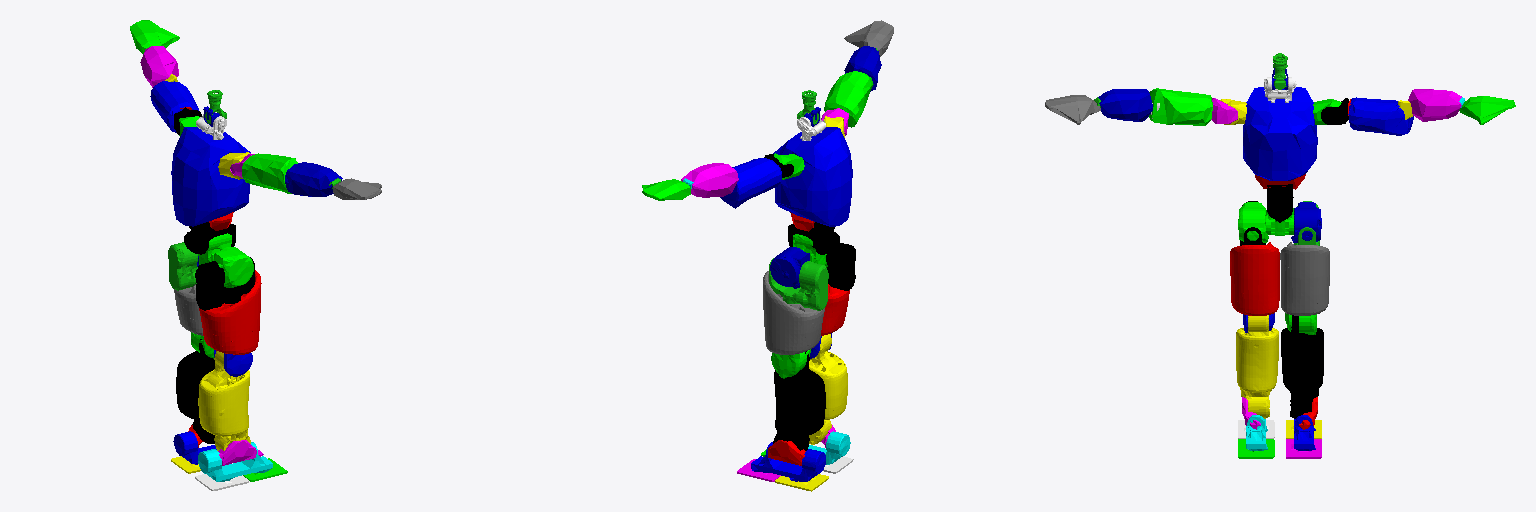
--- What the picture shows (computed from the rendered views, not written in the file) ---
The picture shows the robot from 3 angles, left to right: view 1: azimuth 30°, elevation 25°; view 2: azimuth 150°, elevation 25°; view 3: azimuth 270°, elevation 25°; orthographic projection.
Robot: iCub — 48 links, 47 joints (31 revolute, 1 continuous, 15 fixed); root link root_link; default pose: joints at zero except 2 at the middle of their limits (r_shoulder_roll = 1.5, l_shoulder_roll = 1.5).
Links seen in each view (by area): view 1: chest, r_lower_leg, r_hip_3, l_lower_leg, r_hip_2, r_upper_arm, r_forearm, r_ankle_2, l_upper_arm, l_hip_2, r_hip_1, l_forearm (+7 smaller); view 2: chest, l_lower_leg, l_hip_3, r_lower_leg, l_hip_2, l_upper_arm, r_upper_arm, l_forearm, l_ankle_2, r_hip_2, l_hip_1, r_hand (+7 smaller); view 3: chest, r_lower_leg, r_hip_3, l_hip_3, l_lower_leg, r_upper_arm, l_upper_arm, r_forearm, l_forearm, r_hand, l_hand, r_hip_1 (+4 smaller).
Link boxes in pixels (x1,y1,x2,y2): chest: [171, 127, 250, 226]; r_lower_leg: [198, 351, 250, 450]; r_hip_3: [199, 270, 261, 354]; l_lower_leg: [176, 339, 214, 443]; r_hip_2: [195, 257, 254, 310]; r_upper_arm: [242, 153, 297, 193]; r_forearm: [285, 162, 342, 196]; r_ankle_2: [198, 442, 272, 481]; l_upper_arm: [150, 81, 198, 132]; l_hip_2: [168, 242, 197, 290]; r_hip_1: [213, 247, 253, 287]; l_forearm: [140, 46, 178, 87]; chest: [773, 127, 852, 226]; l_lower_leg: [773, 351, 825, 450]; l_hip_3: [763, 271, 824, 354]; r_lower_leg: [809, 334, 847, 444]; l_hip_2: [769, 258, 828, 310]; l_upper_arm: [720, 158, 781, 208]; r_upper_arm: [824, 71, 873, 127]; l_forearm: [681, 163, 738, 197]; l_ankle_2: [751, 442, 825, 481]; r_hip_2: [826, 243, 855, 290]; l_hip_1: [770, 247, 809, 288]; r_hand: [844, 20, 893, 56]; chest: [1243, 87, 1317, 180]; r_lower_leg: [1236, 315, 1278, 418]; r_hip_3: [1230, 242, 1279, 315]; l_hip_3: [1280, 242, 1329, 315]; l_lower_leg: [1281, 315, 1323, 418]; r_upper_arm: [1149, 88, 1212, 125]; l_upper_arm: [1348, 97, 1413, 135]; r_forearm: [1098, 89, 1152, 121]; l_forearm: [1408, 89, 1461, 121]; r_hand: [1045, 95, 1100, 124]; l_hand: [1459, 96, 1515, 124]; r_hip_1: [1238, 202, 1268, 242].
Bounding box of the posed robot: 0.3212 × 1.28 × 1.13 m (x, y, z).
41 mesh visuals loaded from 42 distinct referenced files (19 binary STL, 22 ASCII STL); not drawn: 1 (reference not matched to a file when rendering).

The robot description file, URDF, robot "iCub":
<robot name="iCub">
  <link name="root_link">
    <inertial>
      <origin xyz="0.00317113 -0.00014949699999999998 0.025427000000000033" rpy="0 0 -1.5707963267948966"/>
      <mass value="2.67135"/>
      <inertia ixx="0.00428489" ixy="-2.2116e-06" ixz="-1.21946e-05" iyy="0.0045869" iyz="0.00016074" izz="0.00249045"/>
    </inertial>
    <visual>
      <origin xyz="0 0 0.313858" rpy="0 0 -1.5707963267948966"/>
      <geometry>
        <mesh filename="package://iCub/meshes/simmechanics/sim_icub3_root_link_prt.stl" scale="0.001 0.001 0.001"/>
      </geometry>
      <material name="green">
        <color rgba="0 1 0 1"/>
      </material>
    </visual>
    <collision>
      <origin xyz="0 0 0.313858" rpy="0 0 -1.5707963267948966"/>
      <geometry>
        <mesh filename="package://iCub/meshes/simmechanics/sim_icub3_root_link_prt.stl" scale="0.001 0.001 0.001"/>
      </geometry>
    </collision>
  </link>
  <link name="torso_1">
    <inertial>
      <origin xyz="-0.00752632 0.000684313 0.05308400000000002" rpy="0 0 -1.5707963267948966"/>
      <mass value="1.81255"/>
      <inertia ixx="0.00354354" ixy="5.48743e-06" ixz="8.16841e-06" iyy="0.00272482" iyz="-0.000326014" izz="0.00215923"/>
    </inertial>
    <visual>
      <origin xyz="0 0 0.25335800000000014" rpy="0 0 -1.5707963267948966"/>
      <geometry>
        <mesh filename="package://iCub/meshes/simmechanics/sim_icub3_torso_1_prt.stl" scale="0.001 0.001 0.001"/>
      </geometry>
      <material name="black">
        <color rgba="0 0 0 1"/>
      </material>
    </visual>
    <collision>
      <origin xyz="0 0 0.25335800000000014" rpy="0 0 -1.5707963267948966"/>
      <geometry>
        <mesh filename="package://iCub/meshes/simmechanics/sim_icub3_torso_1_prt.stl" scale="0.001 0.001 0.001"/>
      </geometry>
    </collision>
  </link>
  <joint name="torso_roll" type="revolute">
    <origin xyz="0 0 0.0605" rpy="0 0 0"/>
    <axis xyz="-1.0 0.0 0.0"/>
    <parent link="root_link"/>
    <child link="torso_1"/>
    <limit effort="50000" lower="-0.4014257279586958" upper="0.4014257279586958" velocity="120.0"/>
    <dynamics damping="2.0" friction="0.0"/>
  </joint>
  <link name="torso_2">
    <inertial>
      <origin xyz="0.0006802240000000001 0.0015534 0.05118500000000001" rpy="0 0 -1.5707963267948966"/>
      <mass value="1.45349"/>
      <inertia ixx="0.00226311" ixy="-1.7788e-06" ixz="-0.000118559" iyy="0.00286571" iyz="1.47721e-05" izz="0.00163638"/>
    </inertial>
    <visual>
      <origin xyz="0 0 0.18085800000000013" rpy="0 0 -1.5707963267948966"/>
      <geometry>
        <mesh filename="package://iCub/meshes/simmechanics/sim_icub3_torso_2_prt.stl" scale="0.001 0.001 0.001"/>
      </geometry>
      <material name="red">
        <color rgba="1 0 0 1"/>
      </material>
    </visual>
    <collision>
      <origin xyz="0 0 0.18085800000000013" rpy="0 0 -1.5707963267948966"/>
      <geometry>
        <mesh filename="package://iCub/meshes/simmechanics/sim_icub3_torso_2_prt.stl" scale="0.001 0.001 0.001"/>
      </geometry>
    </collision>
  </link>
  <joint name="torso_pitch" type="revolute">
    <origin xyz="0 0 0.07250000000000001" rpy="0 0 0"/>
    <axis xyz="0.0 1.0 0.0"/>
    <parent link="torso_1"/>
    <child link="torso_2"/>
    <limit effort="50000" lower="-0.3141592653589793" upper="0.7853981633974483" velocity="120.0"/>
    <dynamics damping="2.0" friction="0.0"/>
  </joint>
  <link name="chest">
    <inertial>
      <origin xyz="-0.0133964 -0.000262139 0.0551337" rpy="0 0 -1.5707963267948966"/>
      <mass value="5.75757"/>
      <inertia ixx="0.0255632" ixy="-5.31274e-05" ixz="9.38021e-05" iyy="0.0261369" iyz="-0.000610637" izz="0.0222276"/>
    </inertial>
    <visual>
      <origin xyz="0 0 0.11638800000000013" rpy="0 0 -1.5707963267948966"/>
      <geometry>
        <mesh filename="package://iCub/meshes/simmechanics/sim_icub3_chest_prt.stl" scale="0.001 0.001 0.001"/>
      </geometry>
      <material name="blue">
        <color rgba="0 0 1 1"/>
      </material>
    </visual>
    <collision>
      <origin xyz="0 0 0.11638800000000013" rpy="0 0 -1.5707963267948966"/>
      <geometry>
        <mesh filename="package://iCub/meshes/simmechanics/sim_icub3_chest_prt.stl" scale="0.001 0.001 0.001"/>
      </geometry>
    </collision>
  </link>
  <joint name="torso_yaw" type="revolute">
    <origin xyz="0 0 0.06447000000000001" rpy="0 0 0"/>
    <axis xyz="0.0 0.0 -1.0"/>
    <parent link="torso_2"/>
    <child link="chest"/>
    <limit effort="50000" lower="-0.7504915783575618" upper="0.7504915783575618" velocity="120.0"/>
    <dynamics damping="2.0" friction="0.0"/>
  </joint>
  <link name="chest_rgb_frame"/>
  <joint name="chest_rgb_frame_fixed_joint" type="fixed">
    <origin xyz="0.0894115 -0.0115 0.09929950000000001" rpy="-1.5707963267948968 0 -1.5707963267948968"/>
    <parent link="chest"/>
    <child link="chest_rgb_frame"/>
    <dynamics damping="0.1"/>
  </joint>
  <link name="chest_depth_frame"/>
  <joint name="chest_depth_frame_fixed_joint" type="fixed">
    <origin xyz="0.0894115 0.0175 0.09929950000000001" rpy="-1.5707963267948968 0 -1.5707963267948968"/>
    <parent link="chest"/>
    <child link="chest_depth_frame"/>
    <dynamics damping="0.1"/>
  </joint>
  <link name="r_shoulder_1">
    <inertial>
      <origin xyz="0.00026441971857374055 -0.05747129038042943 0.0004210903629773867" rpy="-0.06688725064450136 0.24445256247619251 -1.840815419889917"/>
      <mass value="1.45988"/>
      <inertia ixx="0.00109699" ixy="-0.000616726" ixz="-0.000574688" iyy="0.00309305" iyz="-0.000161381" izz="0.00309487"/>
    </inertial>
    <visual>
      <origin xyz="0.03041123335618441 0.029140462447480264 0.01909577433393811" rpy="-0.06688725064450136 0.24445256247619251 -1.840815419889917"/>
      <geometry>
        <mesh filename="package://iCub/meshes/simmechanics/sim_icub3_r_shoulder_1_prt.stl" scale="0.001 0.001 0.001"/>
      </geometry>
      <material name="yellow">
        <color rgba="1 1 0 1"/>
      </material>
    </visual>
    <collision>
      <origin xyz="0.03041123335618441 0.029140462447480264 0.01909577433393811" rpy="-0.06688725064450136 0.24445256247619251 -1.840815419889917"/>
      <geometry>
        <mesh filename="package://iCub/meshes/simmechanics/sim_icub3_r_shoulder_1_prt.stl" scale="0.001 0.001 0.001"/>
      </geometry>
    </collision>
  </link>
  <joint name="r_shoulder_pitch" type="revolute">
    <origin xyz="-0.020835100000000002 -0.0397423 0.1052029" rpy="-0.25326164431680925 2.3014774394592079e-07 0.26179970938509745"/>
    <axis xyz="1.499044390098182e-07 0.9999999783534812 -1.2401537036323317e-07"/>
    <parent link="chest"/>
    <child link="r_shoulder_1"/>
    <limit effort="50000" lower="-1.53588974175501" upper="0.22689280275926285" velocity="120.0"/>
    <dynamics damping="2.0" friction="0.0"/>
  </joint>
  <link name="r_shoulder_2">
    <inertial>
      <origin xyz="0.000711844151437005 -0.00028997131506725005 -0.027865575116629175" rpy="-0.07156446033079357 0.06196992338505823 -1.8462350402422587"/>
      <mass value="0.322126"/>
      <inertia ixx="0.000309774" ixy="3.44034e-05" ixz="2.39129e-05" iyy="0.00021568" iyz="-5.45925e-05" izz="0.000222102"/>
    </inertial>
    <visual>
      <origin xyz="0.02389326106684632 0.1415317167619924 -0.007252350207672714" rpy="-0.07156446033079357 0.06196992338505823 -1.8462350402422587"/>
      <geometry>
        <mesh filename="package://iCub/meshes/simmechanics/sim_icub3_r_shoulder_2_prt.stl" scale="0.001 0.001 0.001"/>
      </geometry>
      <material name="pink">
        <color rgba="1 0 1 1"/>
      </material>
    </visual>
    <collision>
      <origin xyz="0.02389326106684632 0.1415317167619924 -0.007252350207672714" rpy="-0.07156446033079357 0.06196992338505823 -1.8462350402422587"/>
      <geometry>
        <mesh filename="package://iCub/meshes/simmechanics/sim_icub3_r_shoulder_2_prt.stl" scale="0.001 0.001 0.001"/>
      </geometry>
    </collision>
  </link>
  <joint name="r_shoulder_roll" type="revolute">
    <origin xyz="0.007489008185044645 -0.11150041046657978 0.0004027858966975245" rpy="0.17453306234069352 -0.05374779257913059 -6.132332688804098e-07"/>
    <axis xyz="-0.9999998262417886 4.210501434612913e-08 2.4630481182686846e-08"/>
    <parent link="r_shoulder_1"/>
    <child link="r_shoulder_2"/>
    <limit effort="50000" lower="0.20943951023931956" upper="2.792526803190927" velocity="120.0"/>
    <dynamics damping="2.0" friction="0.0"/>
  </joint>
  <link name="r_shoulder_3">
    <inertial>
      <origin xyz="-8.928496484206933e-05 -3.376971940446949e-05 -0.007594500252887257" rpy="-0.07156446033079357 0.06196992338505823 -1.8462350402422587"/>
      <mass value="0.258699"/>
      <inertia ixx="7.20362e-05" ixy="5.87638e-07" ixz="-2.8754e-06" iyy="7.22746e-05" iyz="-3.42816e-06" izz="0.000119776"/>
    </inertial>
    <visual>
      <origin xyz="0.030743207452236198 0.1415314977120318 0.047047631370218286" rpy="-0.07156446033079357 0.06196992338505823 -1.8462350402422587"/>
      <geometry>
        <mesh filename="package://iCub/meshes/simmechanics/sim_icub3_r_shoulder_3_prt.stl" scale="0.001 0.001 0.001"/>
      </geometry>
      <material name="cyan">
        <color rgba="0 1 1 1"/>
      </material>
    </visual>
    <collision>
      <origin xyz="0.030743207452236198 0.1415314977120318 0.047047631370218286" rpy="-0.07156446033079357 0.06196992338505823 -1.8462350402422587"/>
      <geometry>
        <mesh filename="package://iCub/meshes/simmechanics/sim_icub3_r_shoulder_3_prt.stl" scale="0.001 0.001 0.001"/>
      </geometry>
    </collision>
  </link>
  <joint name="r_arm_ft_sensor" type="fixed">
    <origin xyz="-0.006849946385389872 2.1904996058697002e-07 -0.05429998157789099" rpy="0 0 0"/>
    <parent link="r_shoulder_2"/>
    <child link="r_shoulder_3"/>
    <dynamics damping="0.1"/>
  </joint>
  <link name="r_upper_arm">
    <inertial>
      <origin xyz="-4.827495476422694e-06 -0.001943485876269635 -0.04747357932833829" rpy="-0.07156446033079357 0.06196992338505823 -1.8462350402422587"/>
      <mass value="2.06334"/>
      <inertia ixx="0.00382639" ixy="-5.03894e-06" ixz="0.000205684" iyy="0.00368146" iyz="0.000261155" izz="0.00167002"/>
    </inertial>
    <visual>
      <origin xyz="0.03074312554381852 0.141531075879301 0.06954757274337188" rpy="-0.07156446033079357 0.06196992338505823 -1.8462350402422587"/>
      <geometry>
        <mesh filename="package://iCub/meshes/simmechanics/sim_icub3_r_upperarm_prt.stl" scale="0.001 0.001 0.001"/>
      </geometry>
      <material name="green">
        <color rgba="0 1 0 1"/>
      </material>
    </visual>
    <collision>
      <origin xyz="0.03074312554381852 0.141531075879301 0.06954757274337188" rpy="-0.07156446033079357 0.06196992338505823 -1.8462350402422587"/>
      <geometry>
        <mesh filename="package://iCub/meshes/simmechanics/sim_icub3_r_upperarm_prt.stl" scale="0.001 0.001 0.001"/>
      </geometry>
    </collision>
  </link>
  <joint name="r_shoulder_yaw" type="revolute">
    <origin xyz="0 4.2183273077367467e-07 -0.02249994137315358" rpy="0 0 0"/>
    <axis xyz="-3.787621790776764e-08 2.805197706023475e-08 1.0000002566182309"/>
    <parent link="r_shoulder_3"/>
    <child link="r_upper_arm"/>
    <limit effort="50000" lower="-0.8726646259971648" upper="1.3962634015954636" velocity="120.0"/>
    <dynamics damping="2.0" friction="0.0"/>
  </joint>
  <link name="r_elbow_1">
    <inertial>
      <origin xyz="-0.011624818009452066 -0.0018028159470199479 0.022300137248866647" rpy="-0.07156446033079357 0.06196992338505823 -1.8462350402422587"/>
      <mass value="0.397478"/>
      <inertia ixx="0.00139406" ixy="5.80993e-06" ixz="5.27143e-05" iyy="0.00139077" iyz="6.49755e-05" izz="0.000397127"/>
    </inertial>
    <visual>
      <origin xyz="0.020743193621214673 0.14003143574727356 0.19324791023291824" rpy="-0.07156446033079357 0.06196992338505823 -1.8462350402422587"/>
      <geometry>
        <mesh filename="package://iCub/meshes/simmechanics/sim_icub3_r_elbow_1_prt.stl" scale="0.001 0.001 0.001"/>
      </geometry>
      <material name="white">
        <color rgba="1 1 1 1"/>
      </material>
    </visual>
    <collision>
      <origin xyz="0.020743193621214673 0.14003143574727356 0.19324791023291824" rpy="-0.07156446033079357 0.06196992338505823 -1.8462350402422587"/>
      <geometry>
        <mesh filename="package://iCub/meshes/simmechanics/sim_icub3_r_elbow_1_prt.stl" scale="0.001 0.001 0.001"/>
      </geometry>
    </collision>
  </link>
  <joint name="r_elbow" type="revolute">
    <origin xyz="0.00999993192260382 0.0014996401320274133 -0.1237003374895465" rpy="0 0 0"/>
    <axis xyz="2.4949582807394525e-07 -1.0000002733514362 2.7942487010105877e-08"/>
    <parent link="r_upper_arm"/>
    <child link="r_elbow_1"/>
    <limit effort="50000" lower="-0.05235987755982989" upper="1.3089969389957472" velocity="120.0"/>
    <dynamics damping="2.0" friction="0.0"/>
  </joint>
  <link name="r_forearm">
    <inertial>
      <origin xyz="-0.005853260593877814 -3.2973527508139977e-06 -0.03040488207175987" rpy="-0.07156446033079357 0.06196992338505823 -1.8462350402422587"/>
      <mass value="0.903262"/>
      <inertia ixx="0.00130068" ixy="1.19026e-06" ixz="2.01573e-05" iyy="0.00125879" iyz="0.000118676" izz="0.000642975"/>
    </inertial>
    <visual>
      <origin xyz="0.03574306309002756 0.14203108565259243 0.2485479739054379" rpy="-0.07156446033079357 0.06196992338505823 -1.8462350402422587"/>
      <geometry>
        <mesh filename="package://iCub/meshes/simmechanics/sim_icub3_r_forearm_prt.stl" scale="0.001 0.001 0.001"/>
      </geometry>
      <material name="dblue">
        <color rgba="0 0 0.8 1"/>
      </material>
    </visual>
    <collision>
      <origin xyz="0.03574306309002756 0.14203108565259243 0.2485479739054379" rpy="-0.07156446033079357 0.06196992338505823 -1.8462350402422587"/>
      <geometry>
        <mesh filename="package://iCub/meshes/simmechanics/sim_icub3_r_forearm_prt.stl" scale="0.001 0.001 0.001"/>
      </geometry>
    </collision>
  </link>
  <joint name="r_wrist_prosup" type="revolute">
    <origin xyz="-0.014999869468812953 -0.0019996499053189787 -0.05530006367251966" rpy="0 0 0"/>
    <axis xyz="-3.787621790776764e-08 2.805197706023475e-08 1.0000002566182309"/>
    <parent link="r_elbow_1"/>
    <child link="r_forearm"/>
    <limit effort="50000" lower="-1.53588974175501" upper="1.53588974175501" velocity="120.0"/>
    <dynamics damping="2.0" friction="0.0"/>
  </joint>
  <link name="r_wrist_1">
    <inertial>
      <origin xyz="-0.014389827079018234 0.0005092753390521787 -9.78731576423697e-05" rpy="-0.07156446033079357 0.06196992338505823 -1.8462350402422587"/>
      <mass value="0.0344005"/>
      <inertia ixx="5.11755e-06" ixy="9.19776e-07" ixz="1.47559e-08" iyy="1.60849e-06" iyz="-1.11493e-07" izz="5.58546e-06"/>
    </inertial>
    <visual>
      <origin xyz="0.019443109736078983 0.14403852854340418 0.3560480536175445" rpy="-0.07156446033079357 0.06196992338505823 -1.8462350402422587"/>
      <geometry>
        <mesh filename="package://iCub/meshes/simmechanics/sim_icub3_r_wrist_1_prt.stl" scale="0.001 0.001 0.001"/>
      </geometry>
      <material name="dgreen">
        <color rgba="0.1 0.8 0.1 1"/>
      </material>
    </visual>
    <collision>
      <origin xyz="0.019443109736078983 0.14403852854340418 0.3560480536175445" rpy="-0.07156446033079357 0.06196992338505823 -1.8462350402422587"/>
      <geometry>
        <mesh filename="package://iCub/meshes/simmechanics/sim_icub3_r_wrist_1_prt.stl" scale="0.001 0.001 0.001"/>
      </geometry>
    </collision>
  </link>
  <joint name="r_wrist_pitch" type="revolute">
    <origin xyz="0.016299953353948633 -0.002007442890811839 -0.10750007971210637" rpy="0 0 0"/>
    <axis xyz="0.9999998262417886 -4.210501434612913e-08 -2.4630481182686846e-08"/>
    <parent link="r_forearm"/>
    <child link="r_wrist_1"/>
    <limit effort="50000" lower="-1.2217304763960306" upper="0.4363323129985824" velocity="120.0"/>
    <dynamics damping="2.0" friction="0.0"/>
  </joint>
  <link name="r_hand">
    <inertial>
      <origin xyz="0.004828314385249669 0.00615667237451184 -0.0671378028889843" rpy="-0.07156446033079357 0.06196992338505823 -1.8462350402422587"/>
      <mass value="0.264229"/>
      <inertia ixx="0.000428764" ixy="4.7873e-05" ixz="1.1114e-05" iyy="0.000348073" iyz="1.14469e-05" izz="0.00016164"/>
    </inertial>
    <visual>
      <origin xyz="0.03574323261035172 0.1370391384923124 0.35604813291443793" rpy="-0.07156446033079357 0.06196992338505823 -1.8462350402422587"/>
      <geometry>
        <mesh filename="package://iCub/meshes/simmechanics/sim_icub3_r_hand_prt.stl" scale="0.001 0.001 0.001"/>
      </geometry>
      <material name="gray">
        <color rgba="0.5 0.5 0.5 1"/>
      </material>
    </visual>
    <collision>
      <origin xyz="0.03574323261035172 0.1370391384923124 0.35604813291443793" rpy="-0.07156446033079357 0.06196992338505823 -1.8462350402422587"/>
      <geometry>
        <mesh filename="package://iCub/meshes/simmechanics/sim_icub3_r_hand_prt.stl" scale="0.001 0.001 0.001"/>
      </geometry>
    </collision>
  </link>
  <joint name="r_wrist_yaw" type="continuous">
    <origin xyz="-0.016300122874272734 0.006999390051091792 0" rpy="0 0 0"/>
    <axis xyz="-2.4949582807394525e-07 1.0000002733514362 -2.7942487010105877e-08"/>
    <parent link="r_wrist_1"/>
    <child link="r_hand"/>
    <dynamics damping="0.1"/>
  </joint>
  <link name="l_shoulder_1">
    <inertial>
      <origin xyz="0.0002918276617865645 0.05723090680782866 0.0005026028232598678" rpy="-0.0668874800658252 -0.24445247958725436 -1.300777660386542"/>
      <mass value="1.45562"/>
      <inertia ixx="0.00109517" ixy="0.000611891" ixz="0.000565594" iyy="0.00306956" iyz="-0.000159546" izz="0.00307951"/>
    </inertial>
    <visual>
      <origin xyz="0.030411223823216205 -0.02914047750374663 0.019095766539677893" rpy="-0.0668874800658252 -0.24445247958725436 -1.300777660386542"/>
      <geometry>
        <mesh filename="package://iCub/meshes/simmechanics/sim_icub3_l_shoulder_1_prt.stl" scale="0.001 0.001 0.001"/>
      </geometry>
      <material name="green">
        <color rgba="0 1 0 1"/>
      </material>
    </visual>
    <collision>
      <origin xyz="0.030411223823216205 -0.02914047750374663 0.019095766539677893" rpy="-0.0668874800658252 -0.24445247958725436 -1.300777660386542"/>
      <geometry>
        <mesh filename="package://iCub/meshes/simmechanics/sim_icub3_l_shoulder_1_prt.stl" scale="0.001 0.001 0.001"/>
      </geometry>
    </collision>
  </link>
  <joint name="l_shoulder_pitch" type="revolute">
    <origin xyz="-0.020835100000000002 0.0397423 0.1052029" rpy="0.25326162380993705 -1.1977334179319483e-07 -0.26179930184968747"/>
    <axis xyz="3.323079797554136e-07 0.9999999783534342 1.4452224303420037e-07"/>
    <parent link="chest"/>
    <child link="l_shoulder_1"/>
    <limit effort="50000" lower="-1.53588974175501" upper="0.22689280275926285" velocity="120.0"/>
    <dynamics damping="2.0" friction="0.0"/>
  </joint>
  <link name="l_shoulder_2">
    <inertial>
      <origin xyz="0.003293362025486902 0.0002563804707528261 -0.027865685757097337" rpy="-0.0715644949880594 -0.06196998841864678 -1.295357449823658"/>
      <mass value="0.322126"/>
      <inertia ixx="0.000311039" ixy="-3.5032e-05" ixz="-2.4436e-05" iyy="0.000216027" iyz="-5.52877e-05" izz="0.00022365"/>
    </inertial>
    <visual>
      <origin xyz="0.02639309786919337 -0.14153112610649202 -0.0072523976446019255" rpy="-0.0715644949880594 -0.06196998841864678 -1.295357449823658"/>
      <geometry>
        <mesh filename="package://iCub/meshes/simmechanics/sim_icub3_l_shoulder_2_prt.stl" scale="0.001 0.001 0.001"/>
      </geometry>
      <material name="black">
        <color rgba="0 0 0 1"/>
      </material>
    </visual>
    <collision>
      <origin xyz="0.02639309786919337 -0.14153112610649202 -0.0072523976446019255" rpy="-0.0715644949880594 -0.06196998841864678 -1.295357449823658"/>
      <geometry>
        <mesh filename="package://iCub/meshes/simmechanics/sim_icub3_l_shoulder_2_prt.stl" scale="0.001 0.001 0.001"/>
      </geometry>
    </collision>
  </link>
  <joint name="l_shoulder_roll" type="revolute">
    <origin xyz="0.004992849331690818 0.111499838456099 0.00026865022773668243" rpy="-0.17453296140985003 -0.05374759931933849 0"/>
    <axis xyz="0.9999998262417685 2.0348252625938444e-07 -4.023022846062156e-08"/>
    <parent link="l_shoulder_1"/>
    <child link="l_shoulder_2"/>
    <limit effort="50000" lower="0.20943951023931956" upper="2.792526803190927" velocity="120.0"/>
    <dynamics damping="2.0" friction="0.0"/>
  </joint>
  <link name="l_shoulder_3">
    <inertial>
      <origin xyz="-4.416264022005789e-06 9.587749727052453e-05 -0.007326213473011087" rpy="-0.0715644949880594 -0.06196998841864678 -1.295357449823658"/>
      <mass value="0.256128"/>
      <inertia ixx="7.10321e-05" ixy="-3.76336e-07" ixz="2.93189e-06" iyy="7.06105e-05" iyz="-3.52325e-06" izz="0.000119948"/>
    </inertial>
    <visual>
      <origin xyz="0.030743231026171703 -0.14153148936381538 0.047047641079459794" rpy="-0.0715644949880594 -0.06196998841864678 -1.295357449823658"/>
      <geometry>
        <mesh filename="package://iCub/meshes/simmechanics/sim_icub3_l_shoulder_3_prt.stl" scale="0.001 0.001 0.001"/>
      </geometry>
      <material name="red">
        <color rgba="1 0 0 1"/>
      </material>
    </visual>
    <collision>
      <origin xyz="0.030743231026171703 -0.14153148936381538 0.047047641079459794" rpy="-0.0715644949880594 -0.06196998841864678 -1.295357449823658"/>
      <geometry>
        <mesh filename="package://iCub/meshes/simmechanics/sim_icub3_l_shoulder_3_prt.stl" scale="0.001 0.001 0.001"/>
      </geometry>
    </collision>
  </link>
  <joint name="l_arm_ft_sensor" type="fixed">
    <origin xyz="-0.004350133156978318 3.632573233602887e-07 -0.05430003872406172" rpy="0 0 0"/>
    <parent link="l_shoulder_2"/>
    <child link="l_shoulder_3"/>
    <dynamics damping="0.1"/>
  </joint>
  <link name="l_upper_arm">
    <inertial>
      <origin xyz="0.008436901028384347 -0.02825065136033926 -0.04871214093553894" rpy="-0.0715644949880594 -0.06196998841864678 -1.295357449823658"/>
      <mass value="1.9475"/>
      <inertia ixx="0.00402757" ixy="0.000270166" ixz="-0.000286443" iyy="0.0208452" iyz="0.000223927" izz="0.0187793"/>
    </inertial>
    <visual>
      <origin xyz="0.030743149468679162 -0.14153106591133113 0.06954758245258448" rpy="-0.0715644949880594 -0.06196998841864678 -1.295357449823658"/>
      <geometry>
        <mesh filename="package://iCub/meshes/simmechanics/sim_icub3_l_upperarm_prt.stl" scale="0.001 0.001 0.001"/>
      </geometry>
      <material name="blue">
        <color rgba="0 0 1 1"/>
      </material>
    </visual>
    <collision>
      <origin xyz="0.030743149468679162 -0.14153106591133113 0.06954758245258448" rpy="-0.0715644949880594 -0.06196998841864678 -1.295357449823658"/>
      <geometry>
        <mesh filename="package://iCub/meshes/simmechanics/sim_icub3_l_upperarm_prt.stl" scale="0.001 0.001 0.001"/>
      </geometry>
    </collision>
  </link>
  <joint name="l_shoulder_yaw" type="revolute">
    <origin xyz="0 -4.2345248449371375e-07 -0.022499941373124423" rpy="0 0 0"/>
    <axis xyz="2.2276474049102235e-08 -4.393786247302041e-08 -1.0000002566182309"/>
    <parent link="l_shoulder_3"/>
    <child link="l_upper_arm"/>
    <limit effort="50000" lower="-0.8726646259971648" upper="1.3962634015954636" velocity="120.0"/>
    <dynamics damping="2.0" friction="0.0"/>
  </joint>
  <link name="l_elbow_1">
    <inertial>
      <origin xyz="-0.010241946078109288 0.0018224069895867168 -0.015089620258555453" rpy="-0.0715644949880594 -0.06196998841864678 -1.295357449823658"/>
      <mass value="0.230254"/>
      <inertia ixx="0.0001165" ixy="7.51175e-07" ixz="-9.8725e-06" iyy="0.00012549" iyz="-1.03338e-05" izz="4.38981e-05"/>
    </inertial>
    <visual>
      <origin xyz="0.020743219233759835 -0.14003141848790232 0.19324791999016797" rpy="-0.0715644949880594 -0.06196998841864678 -1.295357449823658"/>
      <geometry>
        <mesh filename="package://iCub/meshes/simmechanics/sim_icub3_l_elbow_1_prt.stl" scale="0.001 0.001 0.001"/>
      </geometry>
      <material name="yellow">
        <color rgba="1 1 0 1"/>
      </material>
    </visual>
    <collision>
      <origin xyz="0.020743219233759835 -0.14003141848790232 0.19324791999016797" rpy="-0.0715644949880594 -0.06196998841864678 -1.295357449823658"/>
      <geometry>
        <mesh filename="package://iCub/meshes/simmechanics/sim_icub3_l_elbow_1_prt.stl" scale="0.001 0.001 0.001"/>
      </geometry>
    </collision>
  </link>
  <joint name="l_elbow" type="revolute">
    <origin xyz="0.009999930234919404 -0.001499647423428896 -0.12370033753758375" rpy="0 0 0"/>
    <axis xyz="-8.811824174789715e-08 -1.0000002733514628 4.404736120498342e-08"/>
    <parent link="l_upper_arm"/>
    <child link="l_elbow_1"/>
    <limit effort="50000" lower="-0.05235987755982989" upper="1.3089969389957472" velocity="120.0"/>
    <dynamics damping="2.0" friction="0.0"/>
  </joint>
  <link name="l_forearm">
    <inertial>
      <origin xyz="-0.0062698741022980675 -4.68551245806359e-05 -0.030648347755607208" rpy="-0.0715644949880594 -0.06196998841864678 -1.295357449823658"/>
      <mass value="0.90793"/>
      <inertia ixx="0.00131822" ixy="-7.39737e-07" ixz="-2.69292e-05" iyy="0.00128448" iyz="0.000108551" izz="0.000646975"/>
    </inertial>
    <visual>
      <origin xyz="0.035743089887937486 -0.14203106199153712 0.24854798357264754" rpy="-0.0715644949880594 -0.06196998841864678 -1.295357449823658"/>
      <geometry>
        <mesh filename="package://iCub/meshes/simmechanics/sim_icub3_l_forearm_prt.stl" scale="0.001 0.001 0.001"/>
      </geometry>
      <material name="pink">
        <color rgba="1 0 1 1"/>
      </material>
    </visual>
    <collision>
      <origin xyz="0.035743089887937486 -0.14203106199153712 0.24854798357264754" rpy="-0.0715644949880594 -0.06196998841864678 -1.295357449823658"/>
      <geometry>
        <mesh filename="package://iCub/meshes/simmechanics/sim_icub3_l_forearm_prt.stl" scale="0.001 0.001 0.001"/>
      </geometry>
    </collision>
  </link>
  <joint name="l_wrist_prosup" type="revolute">
    <origin xyz="-0.0149998706541777 0.0019996435036348514 -0.0553000635824798" rpy="0 0 0"/>
    <axis xyz="2.2276474049102235e-08 -4.393786247302041e-08 -1.0000002566182309"/>
    <parent link="l_elbow_1"/>
    <child link="l_forearm"/>
    <limit effort="50000" lower="-1.53588974175501" upper="1.53588974175501" velocity="120.0"/>
    <dynamics damping="2.0" friction="0.0"/>
  </joint>
  <link name="l_wrist_1">
    <inertial>
      <origin xyz="-0.014390150453737368 -0.0005083960996520864 -9.893035257668714e-05" rpy="-0.0715644949880594 -0.06196998841864678 -1.295357449823658"/>
      <mass value="0.0344005"/>
      <inertia ixx="5.11755e-06" ixy="-9.19776e-07" ixz="-1.4756e-08" iyy="1.60849e-06" iyz="-1.11493e-07" izz="5.58546e-06"/>
    </inertial>
    <visual>
      <origin xyz="0.019143073953651328 -0.1440379572096098 0.3560476247151885" rpy="-0.0715644949880594 -0.06196998841864678 -1.295357449823658"/>
      <geometry>
        <mesh filename="package://iCub/meshes/simmechanics/sim_icub3_l_wrist_1_prt.stl" scale="0.001 0.001 0.001"/>
      </geometry>
      <material name="cyan">
        <color rgba="0 1 1 1"/>
      </material>
    </visual>
    <collision>
      <origin xyz="0.019143073953651328 -0.1440379572096098 0.3560476247151885" rpy="-0.0715644949880594 -0.06196998841864678 -1.295357449823658"/>
      <geometry>
        <mesh filename="package://iCub/meshes/simmechanics/sim_icub3_l_wrist_1_prt.stl" scale="0.001 0.001 0.001"/>
      </geometry>
    </collision>
  </link>
  <joint name="l_wrist_pitch" type="revolute">
    <origin xyz="0.016600015934286182 0.0020068952180725685 -0.10749964114254112" rpy="0 0 0"/>
    <axis xyz="-0.9999998262417685 -2.0348252625938444e-07 4.023022846062156e-08"/>
    <parent link="l_forearm"/>
    <child link="l_wrist_1"/>
    <limit effort="50000" lower="-1.2217304763960306" upper="0.4363323129985824" velocity="120.0"/>
    <dynamics damping="2.0" friction="0.0"/>
  </joint>
  <link name="l_hand">
    <inertial>
      <origin xyz="0.004786523181334726 -0.0061337378723908265 -0.0672770617484692" rpy="-0.0715644949880594 -0.06196998841864678 -1.295357449823658"/>
      <mass value="0.263541"/>
      <inertia ixx="0.000427427" ixy="-4.77094e-05" ixz="-1.03141e-05" iyy="0.000346557" iyz="1.19895e-05" izz="0.000161212"/>
    </inertial>
    <visual>
      <origin xyz="0.035443195698380774 -0.13703856452803848 0.35604770325391955" rpy="-0.0715644949880594 -0.06196998841864678 -1.295357449823658"/>
      <geometry>
        <mesh filename="package://iCub/meshes/simmechanics/sim_icub3_l_hand_prt.stl" scale="0.001 0.001 0.001"/>
      </geometry>
      <material name="green">
        <color rgba="0 1 0 1"/>
      </material>
    </visual>
    <collision>
      <origin xyz="0.035443195698380774 -0.13703856452803848 0.35604770325391955" rpy="-0.0715644949880594 -0.06196998841864678 -1.295357449823658"/>
      <geometry>
        <mesh filename="package://iCub/meshes/simmechanics/sim_icub3_l_hand_prt.stl" scale="0.001 0.001 0.001"/>
      </geometry>
    </collision>
  </link>
  <joint name="l_wrist_yaw" type="revolute">
    <origin xyz="-0.016300121744729387 -0.006999392681571209 0" rpy="0 0 0"/>
    <axis xyz="8.811824174789715e-08 1.0000002733514628 -4.404736120498342e-08"/>
    <parent link="l_wrist_1"/>
    <child link="l_hand"/>
    <limit effort="50000" lower="-0.2617993877991494" upper="0.6108652381980153" velocity="120.0"/>
    <dynamics damping="2.0" friction="0.0"/>
  </joint>
  <link name="neck_1">
    <inertial>
      <origin xyz="-0.0021259300000000003 0.00033753499999999997 0.031454700000000016" rpy="-1.5707963267948968 0 -1.5707963267948968"/>
      <mass value="0.380603"/>
      <inertia ixx="0.000185836" ixy="-9.13542e-06" ixz="-1.53863e-05" iyy="0.000276646" iyz="5.76662e-06" izz="0.000293437"/>
    </inertial>
    <visual>
      <origin xyz="0.00865 0 0.049000000000000016" rpy="-1.5707963267948968 0 -1.5707963267948968"/>
      <geometry>
        <mesh filename="package://iCub/meshes/simmechanics/sim_head_neck_1_prt.stl" scale="0.001 0.001 0.001"/>
      </geometry>
      <material name="white">
        <color rgba="1 1 1 1"/>
      </material>
    </visual>
    <collision>
      <origin xyz="0.00865 0 0.049000000000000016" rpy="-1.5707963267948968 0 -1.5707963267948968"/>
      <geometry>
        <mesh filename="package://iCub/meshes/simmechanics/sim_head_neck_1_prt.stl" scale="0.001 0.001 0.001"/>
      </geometry>
    </collision>
  </link>
  <joint name="neck_fixed_joint" type="fixed">
    <origin xyz="-0.00378849 0 0.1652995" rpy="0 0 0"/>
    <parent link="chest"/>
    <child link="neck_1"/>
    <dynamics damping="0.1"/>
  </joint>
  <link name="neck_2">
    <inertial>
      <origin xyz="-0.0063756 3.63093e-05 0.006597499999999992" rpy="-1.5707963267948968 0 -1.5707963267948968"/>
      <mass value="0.125549"/>
      <inertia ixx="4.05687e-05" ixy="5.89601e-08" ixz="9.99576e-08" iyy="3.86628e-05" iyz="-9.39299e-06" izz="4.74184e-05"/>
    </inertial>
    <visual>
      <origin xyz="0 0 0" rpy="-1.5707963267948968 0 -1.5707963267948968"/>
      <geometry>
        <mesh filename="package://iCub/meshes/simmechanics/sim_head_neck_2_prt.stl" scale="0.001 0.001 0.001"/>
      </geometry>
      <material name="dblue">
        <color rgba="0 0 0.8 1"/>
      </material>
    </visual>
    <collision>
      <origin xyz="0 0 0" rpy="-1.5707963267948968 0 -1.5707963267948968"/>
      <geometry>
        <mesh filename="package://iCub/meshes/simmechanics/sim_head_neck_2_prt.stl" scale="0.001 0.001 0.001"/>
      </geometry>
    </collision>
  </link>
  <joint name="neck_pitch" type="revolute">
    <origin xyz="0.00865 0 0.049000000000000016" rpy="0 0 0"/>
    <axis xyz="0.0 -1.0 0.0"/>
    <parent link="neck_1"/>
    <child link="neck_2"/>
    <limit effort="50000" lower="-0.5235987755982988" upper="0.3839724354387525" velocity="120.0"/>
    <dynamics damping="2.0" friction="0.0"/>
  </joint>
  <link name="neck_3">
    <inertial>
      <origin xyz="0.0012653999999999999 -8.218820291562122e-05 0.03610899999999334" rpy="-1.5707963267948968 0 -1.5707963267948968"/>
      <mass value="0.190133"/>
      <inertia ixx="0.000123771" ixy="-5.41886e-07" ixz="-3.72305e-07" iyy="4.12807e-05" iyz="-1.03162e-05" izz="0.000110703"/>
    </inertial>
    <visual>
      <origin xyz="0 0 -0.009500499999999995" rpy="-1.5707963267948968 0 -1.5707963267948968"/>
      <geometry>
        <mesh filename="package://iCub/meshes/simmechanics/sim_head_neck_3_prt.stl" scale="0.001 0.001 0.001"/>
      </geometry>
      <material name="dgreen">
        <color rgba="0.1 0.8 0.1 1"/>
      </material>
    </visual>
    <collision>
      <origin xyz="0 0 -0.009500499999999995" rpy="-1.5707963267948968 0 -1.5707963267948968"/>
      <geometry>
        <mesh filename="package://iCub/meshes/simmechanics/sim_head_neck_3_prt.stl" scale="0.001 0.001 0.001"/>
      </geometry>
    </collision>
  </link>
  <joint name="neck_roll" type="revolute">
    <origin xyz="0 0 0.009500499999999995" rpy="0 0 0"/>
    <axis xyz="1.0 0.0 0.0"/>
    <parent link="neck_2"/>
    <child link="neck_3"/>
    <limit effort="50000" lower="-0.3490658503988659" upper="0.3490658503988659" velocity="120.0"/>
    <dynamics damping="2.0" friction="0.0"/>
  </joint>
  <link name="head">
    <inertial>
      <origin xyz="-0.02065171000002118 0.0005260309913323862 0.027897000000042443" rpy="-1.5707963267948966 0 -1.5707963267948966"/>
      <mass value="1.93676"/>
      <inertia ixx="0.00790366" ixy="5.06719e-05" ixz="5.09464e-05" iyy="0.00765752" iyz="-0.000199888" izz="0.0057852"/>
    </inertial>
    <visual>
      <origin xyz="0 0 -0.07865050000000001" rpy="-1.5707963267948966 0 -1.5707963267948966"/>
      <geometry>
        <mesh filename="package://iCub/meshes/simmechanics/sim_head_head_prt.stl" scale="0.001 0.001 0.001"/>
      </geometry>
      <material name="gray">
        <color rgba="0.5 0.5 0.5 1"/>
      </material>
    </visual>
    <collision>
      <origin xyz="0 0 -0.07865050000000001" rpy="-1.5707963267948966 0 -1.5707963267948966"/>
      <geometry>
        <mesh filename="package://iCub/meshes/simmechanics/sim_head_head_prt.stl" scale="0.001 0.001 0.001"/>
      </geometry>
    </collision>
  </link>
  <joint name="neck_yaw" type="revolute">
    <origin xyz="0 0 0.06915000000000002" rpy="0 0 0"/>
    <axis xyz="-1.6255499221370677e-21 -1.0999983743979075e-15 1.0"/>
    <parent link="neck_3"/>
    <child link="head"/>
    <limit effort="50000" lower="-0.7853981633974483" upper="0.7853981633974483" velocity="120.0"/>
    <dynamics damping="2.0" friction="0.0"/>
  </joint>
  <link name="imu_frame"/>
  <joint name="imu_frame_fixed_joint" type="fixed">
    <origin xyz="0.0034999999997785457 0.0054999999863750895 0.1013340000004441" rpy="-3.141592653589793 0 -1.570796326794897"/>
    <parent link="head"/>
    <child link="imu_frame"/>
    <dynamics damping="0.1"/>
  </joint>
  <link name="r_hip_1">
    <inertial>
      <origin xyz="-0.0022844000000000024 -0.0311272 -0.0005319999999999769" rpy="0 0 -1.5707963267948966"/>
      <mass value="2.50002"/>
      <inertia ixx="0.00297897" ixy="2.5017e-05" ixz="-6.41747e-06" iyy="0.00239087" iyz="1.70293e-05" izz="0.00250378"/>
    </inertial>
    <visual>
      <origin xyz="-0.0216 0.04054999999999986 0.313858" rpy="0 0 -1.5707963267948966"/>
      <geometry>
        <mesh filename="package://iCub/meshes/simmechanics/sim_icub3_r_hip_1_prt.stl" scale="0.001 0.001 0.001"/>
      </geometry>
      <material name="green">
        <color rgba="0 1 0 1"/>
      </material>
    </visual>
    <collision>
      <origin xyz="-0.0216 0.04054999999999986 0.313858" rpy="0 0 -1.5707963267948966"/>
      <geometry>
        <mesh filename="package://iCub/meshes/simmechanics/sim_icub3_r_hip_1_prt.stl" scale="0.001 0.001 0.001"/>
      </geometry>
    </collision>
  </link>
  <joint name="r_hip_pitch" type="revolute">
    <origin xyz="0.0216 -0.040549999999999996 0" rpy="0 0 0"/>
    <axis xyz="0.0 -1.0 0.0"/>
    <parent link="root_link"/>
    <child link="r_hip_1"/>
    <limit effort="50000" lower="-0.7853981633974483" upper="2.007128639793479" velocity="120.0"/>
    <dynamics damping="2.0" friction="0.0"/>
  </joint>
  <link name="r_hip_2">
    <inertial>
      <origin xyz="-0.005953899999999998 -6.729999999999237e-05 -0.03664600000000001" rpy="0 0 -1.5707963267948966"/>
      <mass value="1.881"/>
      <inertia ixx="0.00530499" ixy="4.52129e-06" ixz="-3.21581e-06" iyy="0.00316405" iyz="0.00111279" izz="0.00322352"/>
    </inertial>
    <visual>
      <origin xyz="0.025699999999999973 0.07364999999999984 0.3228580000000001" rpy="0 0 -1.5707963267948966"/>
      <geometry>
        <mesh filename="package://iCub/meshes/simmechanics/sim_icub3_r_hip_2_prt.stl" scale="0.001 0.001 0.001"/>
      </geometry>
      <material name="black">
        <color rgba="0 0 0 1"/>
      </material>
    </visual>
    <collision>
      <origin xyz="0.025699999999999973 0.07364999999999984 0.3228580000000001" rpy="0 0 -1.5707963267948966"/>
      <geometry>
        <mesh filename="package://iCub/meshes/simmechanics/sim_icub3_r_hip_2_prt.stl" scale="0.001 0.001 0.001"/>
      </geometry>
    </collision>
  </link>
  <joint name="r_hip_roll" type="revolute">
    <origin xyz="-0.0473 -0.03310000000000001 -0.009000000000000008" rpy="0 0 0"/>
    <axis xyz="-1.0 0.0 0.0"/>
    <parent link="r_hip_1"/>
    <child link="r_hip_2"/>
    <limit effort="50000" lower="-0.17453292519943295" upper="2.007128639793479" velocity="120.0"/>
    <dynamics damping="2.0" friction="0.0"/>
  </joint>
  <link name="r_hip_3">
    <inertial>
      <origin xyz="0.002330500000000001 0.012397400000000003 -0.038593000000000044" rpy="0 0 -1.5707963267948966"/>
      <mass value="2.29213"/>
      <inertia ixx="0.00414038" ixy="-2.75022e-06" ixz="0.000129979" iyy="0.00388885" iyz="3.36052e-06" izz="0.0038556"/>
    </inertial>
    <visual>
      <origin xyz="-0.011000000000000025 0.07364999999999984 0.41255800000000004" rpy="0 0 -1.5707963267948966"/>
      <geometry>
        <mesh filename="package://iCub/meshes/simmechanics/sim_icub3_r_hip_3_prt.stl" scale="0.001 0.001 0.001"/>
      </geometry>
      <material name="red">
        <color rgba="1 0 0 1"/>
      </material>
    </visual>
    <collision>
      <origin xyz="-0.011000000000000025 0.07364999999999984 0.41255800000000004" rpy="0 0 -1.5707963267948966"/>
      <geometry>
        <mesh filename="package://iCub/meshes/simmechanics/sim_icub3_r_hip_3_prt.stl" scale="0.001 0.001 0.001"/>
      </geometry>
    </collision>
  </link>
  <joint name="r_leg_ft_sensor" type="fixed">
    <origin xyz="0.036699999999999997 0 -0.08969999999999995" rpy="0 0 0"/>
    <parent link="r_hip_2"/>
    <child link="r_hip_3"/>
    <dynamics damping="0.1"/>
  </joint>
  <link name="r_upper_leg">
    <inertial>
      <origin xyz="0.011073100000000002 -0.006118600000000009 -0.08428599999999997" rpy="0 0 -1.5707963267948966"/>
      <mass value="2.2571"/>
      <inertia ixx="0.00483819" ixy="-6.66159e-05" ixz="0.000338676" iyy="0.0048635" iyz="0.000517774" izz="0.00195808"/>
    </inertial>
    <visual>
      <origin xyz="-0.011000000000000012 0.05864999999999984 0.48345800000000005" rpy="0 0 -1.5707963267948966"/>
      <geometry>
        <mesh filename="package://iCub/meshes/simmechanics/sim_icub3_r_upper_leg_prt.stl" scale="0.001 0.001 0.001"/>
      </geometry>
      <material name="blue">
        <color rgba="0 0 1 1"/>
      </material>
    </visual>
    <collision>
      <origin xyz="-0.011000000000000012 0.05864999999999984 0.48345800000000005" rpy="0 0 -1.5707963267948966"/>
      <geometry>
        <mesh filename="package://iCub/meshes/simmechanics/sim_icub3_r_upper_leg_prt.stl" scale="0.001 0.001 0.001"/>
      </geometry>
    </collision>
  </link>
  <joint name="r_hip_yaw" type="revolute">
    <origin xyz="0 0.015000000000000006 -0.07090000000000007" rpy="0 0 0"/>
    <axis xyz="0.0 0.0 -1.0"/>
    <parent link="r_hip_3"/>
    <child link="r_upper_leg"/>
    <limit effort="50000" lower="-1.3962634015954636" upper="1.3962634015954636" velocity="120.0"/>
    <dynamics damping="2.0" friction="0.0"/>
  </joint>
  <link name="r_lower_leg">
    <inertial>
      <origin xyz="-0.014088200000000002 0.0221175 -0.12884000000000007" rpy="0 0 -1.5707963267948966"/>
      <mass value="5.89871"/>
      <inertia ixx="0.0621727" ixy="-6.99688e-05" ixz="4.01089e-05" iyy="0.0591797" iyz="-6.8275e-06" izz="0.00642096"/>
    </inertial>
    <visual>
      <origin xyz="-0.026000000000000037 0.0835499999999998 0.589658" rpy="0 0 -1.5707963267948966"/>
      <geometry>
        <mesh filename="package://iCub/meshes/simmechanics/sim_icub3_r_lower_leg_prt.stl" scale="0.001 0.001 0.001"/>
      </geometry>
      <material name="yellow">
        <color rgba="1 1 0 1"/>
      </material>
    </visual>
    <collision>
      <origin xyz="-0.026000000000000037 0.0835499999999998 0.589658" rpy="0 0 -1.5707963267948966"/>
      <geometry>
        <mesh filename="package://iCub/meshes/simmechanics/sim_icub3_r_lower_leg_prt.stl" scale="0.001 0.001 0.001"/>
      </geometry>
    </collision>
  </link>
  <joint name="r_knee" type="revolute">
    <origin xyz="0.015000000000000003 -0.0249 -0.10619999999999996" rpy="0 0 0"/>
    <axis xyz="0.0 -1.0 0.0"/>
    <parent link="r_upper_leg"/>
    <child link="r_lower_leg"/>
    <limit effort="50000" lower="-1.2217304763960306" upper="0.08726646259971647" velocity="120.0"/>
    <dynamics damping="2.0" friction="0.0"/>
  </joint>
  <link name="r_ankle_1">
    <inertial>
      <origin xyz="-0.005962499999999999 0.0010981000000000046 -0.015748999999999902" rpy="0 0 -1.5707963267948966"/>
      <mass value="0.366025"/>
      <inertia ixx="0.000716588" ixy="-3.69142e-05" ixz="-5.95837e-05" iyy="0.000307601" iyz="-2.65786e-05" izz="0.000562826"/>
    </inertial>
    <visual>
      <origin xyz="-0.026000000000000245 0.08304999999999924 0.8456470000000003" rpy="0 0 -1.5707963267948966"/>
      <geometry>
        <mesh filename="package://iCub/meshes/simmechanics/sim_icub3_r_ankle_1_prt.stl" scale="0.001 0.001 0.001"/>
      </geometry>
      <material name="pink">
        <color rgba="1 0 1 1"/>
      </material>
    </visual>
    <collision>
      <origin xyz="-0.026000000000000245 0.08304999999999924 0.8456470000000003" rpy="0 0 -1.5707963267948966"/>
      <geometry>
        <mesh filename="package://iCub/meshes/simmechanics/sim_icub3_r_ankle_1_prt.stl" scale="0.001 0.001 0.001"/>
      </geometry>
    </collision>
  </link>
  <joint name="r_ankle_pitch" type="revolute">
    <origin xyz="0 0.0005000000000000004 -0.255989" rpy="0 0 0"/>
    <axis xyz="0.0 1.0 0.0"/>
    <parent link="r_lower_leg"/>
    <child link="r_ankle_1"/>
    <limit effort="50000" lower="-0.7853981633974483" upper="0.7853981633974483" velocity="120.0"/>
    <dynamics damping="2.0" friction="0.0"/>
  </joint>
  <link name="r_ankle_2">
    <inertial>
      <origin xyz="0.0397505 7.059999999999012e-05 -0.02546499999999996" rpy="0 0 -1.5707963267948966"/>
      <mass value="1.06609"/>
      <inertia ixx="0.00509606" ixy="-5.61378e-06" ixz="1.59257e-06" iyy="0.00100018" iyz="0.000895941" izz="0.00456966"/>
    </inertial>
    <visual>
      <origin xyz="0.026749999999999875 0.0648499999999391 0.8806470000000108" rpy="0 0 -1.5707963267948966"/>
      <geometry>
        <mesh filename="package://iCub/meshes/simmechanics/sim_icub3_r_ankle_2_prt.stl" scale="0.001 0.001 0.001"/>
      </geometry>
      <material name="cyan">
        <color rgba="0 1 1 1"/>
      </material>
    </visual>
    <collision>
      <origin xyz="0.026749999999999875 0.0648499999999391 0.8806470000000108" rpy="0 0 -1.5707963267948966"/>
      <geometry>
        <mesh filename="package://iCub/meshes/simmechanics/sim_icub3_r_ankle_2_prt.stl" scale="0.001 0.001 0.001"/>
      </geometry>
    </collision>
  </link>
  <joint name="r_ankle_roll" type="revolute">
    <origin xyz="-0.052750000000000005 0.018200000000000008 -0.03500000000000003" rpy="0 0 0"/>
    <axis xyz="-1.0 0.0 0.0"/>
    <parent link="r_ankle_1"/>
    <child link="r_ankle_2"/>
    <limit effort="50000" lower="-0.4363323129985824" upper="0.4363323129985824" velocity="120.0"/>
    <dynamics damping="2.0" friction="0.0"/>
  </joint>
  <link name="r_foot_front">
    <inertial>
      <origin xyz="-0.0004180000000000017 0.0004849999999999993 0.005581000000000058" rpy="0 0 -1.5707963267948966"/>
      <mass value="0.185773"/>
      <inertia ixx="0.000462843" ixy="-1.20188e-05" ixz="3.06999e-05" iyy="0.000388975" iyz="7.29726e-05" izz="0.00041386"/>
    </inertial>
    <visual>
      <origin xyz="-0.10850000000000011 0.06484999999993908 0.9464470000000105" rpy="0 0 -1.5707963267948966"/>
      <geometry>
        <mesh filename="package://iCub/meshes/simmechanics/sim_icub3_r_foot_front_prt.stl" scale="0.001 0.001 0.001"/>
      </geometry>
      <material name="green">
        <color rgba="0 1 0 1"/>
      </material>
    </visual>
    <collision>
      <origin xyz="-0.10850000000000011 0.06484999999993908 0.9464470000000105" rpy="0 0 -1.5707963267948966"/>
      <geometry>
        <mesh filename="package://iCub/meshes/simmechanics/sim_icub3_r_foot_front_prt.stl" scale="0.001 0.001 0.001"/>
      </geometry>
    </collision>
  </link>
  <joint name="r_foot_front_ft_sensor" type="fixed">
    <origin xyz="0.13525 0 -0.06579999999999997" rpy="0 0 0"/>
    <parent link="r_ankle_2"/>
    <child link="r_foot_front"/>
    <dynamics damping="0.1"/>
  </joint>
  <link name="r_foot_rear">
    <inertial>
      <origin xyz="0.0006180999999999999 7.079999999998199e-05 0.003514000000000017" rpy="0 0 -1.5707963267948966"/>
      <mass value="0.184841"/>
      <inertia ixx="0.000246507" ixy="1.65184e-07" ixz="2.94929e-06" iyy="0.00018852" iyz="-1.33386e-06" izz="0.000376967"/>
    </inertial>
    <visual>
      <origin xyz="0.010749999999999881 0.0648499999999391 0.9464470000000105" rpy="0 0 -1.5707963267948966"/>
      <geometry>
        <mesh filename="package://iCub/meshes/simmechanics/sim_icub3_r_foot_rear_prt.stl" scale="0.001 0.001 0.001"/>
      </geometry>
      <material name="white">
        <color rgba="1 1 1 1"/>
      </material>
    </visual>
    <collision>
      <origin xyz="0.010749999999999881 0.0648499999999391 0.9464470000000105" rpy="0 0 -1.5707963267948966"/>
      <geometry>
        <mesh filename="package://iCub/meshes/simmechanics/sim_icub3_r_foot_rear_prt.stl" scale="0.001 0.001 0.001"/>
      </geometry>
    </collision>
  </link>
  <joint name="r_foot_rear_ft_sensor" type="fixed">
    <origin xyz="0.016 0 -0.06579999999999997" rpy="0 0 0"/>
    <parent link="r_ankle_2"/>
    <child link="r_foot_rear"/>
    <dynamics damping="0.1"/>
  </joint>
  <link name="r_sole"/>
  <joint name="r_sole_fixed_joint" type="fixed">
    <origin xyz="0.05963000000000001 0 0" rpy="0 0 0"/>
    <parent link="r_foot_rear"/>
    <child link="r_sole"/>
    <dynamics damping="0.1"/>
  </joint>
  <link name="l_hip_1">
    <inertial>
      <origin xyz="-0.001970200000000002 0.0311194 -0.00043199999999998795" rpy="0 0 -1.5707963267948966"/>
      <mass value="2.48546"/>
      <inertia ixx="0.00285629" ixy="-2.13955e-05" ixz="3.35338e-06" iyy="0.00230094" iyz="1.79278e-05" izz="0.00246343"/>
    </inertial>
    <visual>
      <origin xyz="-0.02159999999999998 -0.040449999999999674 0.3138580000000002" rpy="0 0 -1.5707963267948966"/>
      <geometry>
        <mesh filename="package://iCub/meshes/simmechanics/sim_icub3_l_hip_1_prt.stl" scale="0.001 0.001 0.001"/>
      </geometry>
      <material name="dblue">
        <color rgba="0 0 0.8 1"/>
      </material>
    </visual>
    <collision>
      <origin xyz="-0.02159999999999998 -0.040449999999999674 0.3138580000000002" rpy="0 0 -1.5707963267948966"/>
      <geometry>
        <mesh filename="package://iCub/meshes/simmechanics/sim_icub3_l_hip_1_prt.stl" scale="0.001 0.001 0.001"/>
      </geometry>
    </collision>
  </link>
  <joint name="l_hip_pitch" type="revolute">
    <origin xyz="0.0216 0.04045000000000001 0" rpy="0 0 0"/>
    <axis xyz="0.0 -1.0 0.0"/>
    <parent link="root_link"/>
    <child link="l_hip_1"/>
    <limit effort="50000" lower="-0.7853981633974483" upper="2.007128639793479" velocity="120.0"/>
    <dynamics damping="2.0" friction="0.0"/>
  </joint>
  <link name="l_hip_2">
    <inertial>
      <origin xyz="-0.005948600000000005 8.049999999999724e-05 -0.03665299999999999" rpy="0 0 -1.5707963267948966"/>
      <mass value="1.8834"/>
      <inertia ixx="0.00530457" ixy="-3.8077e-06" ixz="2.9244e-06" iyy="0.00316497" iyz="0.0011122" izz="0.00322503"/>
    </inertial>
    <visual>
      <origin xyz="0.025649999999999923 -0.07354999999999969 0.32285800000000037" rpy="0 0 -1.5707963267948966"/>
      <geometry>
        <mesh filename="package://iCub/meshes/simmechanics/sim_icub3_l_hip_2_prt.stl" scale="0.001 0.001 0.001"/>
      </geometry>
      <material name="dgreen">
        <color rgba="0.1 0.8 0.1 1"/>
      </material>
    </visual>
    <collision>
      <origin xyz="0.025649999999999923 -0.07354999999999969 0.32285800000000037" rpy="0 0 -1.5707963267948966"/>
      <geometry>
        <mesh filename="package://iCub/meshes/simmechanics/sim_icub3_l_hip_2_prt.stl" scale="0.001 0.001 0.001"/>
      </geometry>
    </collision>
  </link>
  <joint name="l_hip_roll" type="revolute">
    <origin xyz="-0.04725 0.0331 -0.009000000000000008" rpy="0 0 0"/>
    <axis xyz="1.0 0.0 0.0"/>
    <parent link="l_hip_1"/>
    <child link="l_hip_2"/>
    <limit effort="50000" lower="-0.17453292519943295" upper="2.007128639793479" velocity="120.0"/>
    <dynamics damping="2.0" friction="0.0"/>
  </joint>
  <link name="l_hip_3">
    <inertial>
      <origin xyz="0.002293400000000001 -0.012390400000000003 -0.038493" rpy="0 0 -1.5707963267948966"/>
      <mass value="2.29352"/>
      <inertia ixx="0.00410859" ixy="5.18011e-06" ixz="-0.000137838" iyy="0.00385326" iyz="6.77925e-06" izz="0.00385557"/>
    </inertial>
    <visual>
      <origin xyz="-0.011050000000000072 -0.07354999999999969 0.4125580000000003" rpy="0 0 -1.5707963267948966"/>
      <geometry>
        <mesh filename="package://iCub/meshes/simmechanics/sim_icub3_l_hip_3_prt.stl" scale="0.001 0.001 0.001"/>
      </geometry>
      <material name="gray">
        <color rgba="0.5 0.5 0.5 1"/>
      </material>
    </visual>
    <collision>
      <origin xyz="-0.011050000000000072 -0.07354999999999969 0.4125580000000003" rpy="0 0 -1.5707963267948966"/>
      <geometry>
        <mesh filename="package://iCub/meshes/simmechanics/sim_icub3_l_hip_3_prt.stl" scale="0.001 0.001 0.001"/>
      </geometry>
    </collision>
  </link>
  <joint name="l_leg_ft_sensor" type="fixed">
    <origin xyz="0.036699999999999997 0 -0.08969999999999995" rpy="0 0 0"/>
    <parent link="l_hip_2"/>
    <child link="l_hip_3"/>
    <dynamics damping="0.1"/>
  </joint>
  <link name="l_upper_leg">
    <inertial>
      <origin xyz="0.0111663 0.006184700000000008 -0.08457400000000004" rpy="0 0 -1.5707963267948966"/>
      <mass value="2.24396"/>
      <inertia ixx="0.00476284" ixy="6.71293e-05" ixz="-0.00033784" iyy="0.00479384" iyz="0.000493564" izz="0.00194527"/>
    </inertial>
    <visual>
      <origin xyz="-0.01105 -0.058549999999999776 0.48345800000000044" rpy="0 0 -1.5707963267948966"/>
      <geometry>
        <mesh filename="package://iCub/meshes/simmechanics/sim_icub3_l_upper_leg_prt.stl" scale="0.001 0.001 0.001"/>
      </geometry>
      <material name="green">
        <color rgba="0 1 0 1"/>
      </material>
    </visual>
    <collision>
      <origin xyz="-0.01105 -0.058549999999999776 0.48345800000000044" rpy="0 0 -1.5707963267948966"/>
      <geometry>
        <mesh filename="package://iCub/meshes/simmechanics/sim_icub3_l_upper_leg_prt.stl" scale="0.001 0.001 0.001"/>
      </geometry>
    </collision>
  </link>
  <joint name="l_hip_yaw" type="revolute">
    <origin xyz="0 -0.015000000000000006 -0.07090000000000007" rpy="0 0 0"/>
    <axis xyz="0.0 0.0 1.0"/>
    <parent link="l_hip_3"/>
    <child link="l_upper_leg"/>
    <limit effort="50000" lower="-1.3962634015954636" upper="1.3962634015954636" velocity="120.0"/>
    <dynamics damping="2.0" friction="0.0"/>
  </joint>
  <link name="l_lower_leg">
    <inertial>
      <origin xyz="-0.014714199999999998 -0.022167400000000004 -0.13267799999999996" rpy="0 0 -1.5707963267948966"/>
      <mass value="5.66584"/>
      <inertia ixx="0.0578975" ixy="6.56617e-05" ixz="3.07278e-05" iyy="0.0550335" iyz="0.000320278" izz="0.00624087"/>
    </inertial>
    <visual>
      <origin xyz="-0.026050000000000094 -0.08344999999999987 0.5896580000000003" rpy="0 0 -1.5707963267948966"/>
      <geometry>
        <mesh filename="package://iCub/meshes/simmechanics/sim_icub3_l_lower_leg_prt.stl" scale="0.001 0.001 0.001"/>
      </geometry>
      <material name="black">
        <color rgba="0 0 0 1"/>
      </material>
    </visual>
    <collision>
      <origin xyz="-0.026050000000000094 -0.08344999999999987 0.5896580000000003" rpy="0 0 -1.5707963267948966"/>
      <geometry>
        <mesh filename="package://iCub/meshes/simmechanics/sim_icub3_l_lower_leg_prt.stl" scale="0.001 0.001 0.001"/>
      </geometry>
    </collision>
  </link>
  <joint name="l_knee" type="revolute">
    <origin xyz="0.015 0.024900000000000012 -0.10619999999999996" rpy="0 0 0"/>
    <axis xyz="0.0 -1.0 0.0"/>
    <parent link="l_upper_leg"/>
    <child link="l_lower_leg"/>
    <limit effort="50000" lower="-1.2217304763960306" upper="0.08726646259971647" velocity="120.0"/>
    <dynamics damping="2.0" friction="0.0"/>
  </joint>
  <link name="l_ankle_1">
    <inertial>
      <origin xyz="-0.005967799999999999 -0.0010993000000000114 -0.015761000000000025" rpy="0 0 -1.5707963267948966"/>
      <mass value="0.366025"/>
      <inertia ixx="0.000707304" ixy="3.70126e-05" ixz="5.91604e-05" iyy="0.000298272" iyz="-2.72765e-05" izz="0.000562955"/>
    </inertial>
    <visual>
      <origin xyz="-0.026050000000000184 -0.08294999999999977 0.8456470000000004" rpy="0 0 -1.5707963267948966"/>
      <geometry>
        <mesh filename="package://iCub/meshes/simmechanics/sim_icub3_l_ankle_1_prt.stl" scale="0.001 0.001 0.001"/>
      </geometry>
      <material name="red">
        <color rgba="1 0 0 1"/>
      </material>
    </visual>
    <collision>
      <origin xyz="-0.026050000000000184 -0.08294999999999977 0.8456470000000004" rpy="0 0 -1.5707963267948966"/>
      <geometry>
        <mesh filename="package://iCub/meshes/simmechanics/sim_icub3_l_ankle_1_prt.stl" scale="0.001 0.001 0.001"/>
      </geometry>
    </collision>
  </link>
  <joint name="l_ankle_pitch" type="revolute">
    <origin xyz="0 -0.0005000000000000004 -0.255989" rpy="0 0 0"/>
    <axis xyz="0.0 1.0 0.0"/>
    <parent link="l_lower_leg"/>
    <child link="l_ankle_1"/>
    <limit effort="50000" lower="-0.7853981633974483" upper="0.7853981633974483" velocity="120.0"/>
    <dynamics damping="2.0" friction="0.0"/>
  </joint>
  <link name="l_ankle_2">
    <inertial>
      <origin xyz="0.0395705 -8.679999999999799e-05 -0.025456999999999952" rpy="0 0 -1.5707963267948966"/>
      <mass value="1.06953"/>
      <inertia ixx="0.00503581" ixy="5.20865e-06" ixz="-3.95084e-06" iyy="0.000929762" iyz="0.000893221" izz="0.00457973"/>
    </inertial>
    <visual>
      <origin xyz="0.026700000000000015 -0.06475000000001183 0.8806469999999995" rpy="0 0 -1.5707963267948966"/>
      <geometry>
        <mesh filename="package://iCub/meshes/simmechanics/sim_icub3_l_ankle_2_prt.stl" scale="0.001 0.001 0.001"/>
      </geometry>
      <material name="blue">
        <color rgba="0 0 1 1"/>
      </material>
    </visual>
    <collision>
      <origin xyz="0.026700000000000015 -0.06475000000001183 0.8806469999999995" rpy="0 0 -1.5707963267948966"/>
      <geometry>
        <mesh filename="package://iCub/meshes/simmechanics/sim_icub3_l_ankle_2_prt.stl" scale="0.001 0.001 0.001"/>
      </geometry>
    </collision>
  </link>
  <joint name="l_ankle_roll" type="revolute">
    <origin xyz="-0.052750000000000005 -0.018200000000000008 -0.03500000000000003" rpy="0 0 0"/>
    <axis xyz="1.0 0.0 0.0"/>
    <parent link="l_ankle_1"/>
    <child link="l_ankle_2"/>
    <limit effort="50000" lower="-0.4363323129985824" upper="0.4363323129985824" velocity="120.0"/>
    <dynamics damping="2.0" friction="0.0"/>
  </joint>
  <link name="l_foot_rear">
    <inertial>
      <origin xyz="0.0005056000000000001 3.350000000000575e-05 0.003658999999999968" rpy="0 0 -1.5707963267948966"/>
      <mass value="0.184608"/>
      <inertia ixx="0.000293567" ixy="-3.94431e-07" ixz="3.49332e-06" iyy="0.000234498" iyz="8.41971e-06" izz="0.000377639"/>
    </inertial>
    <visual>
      <origin xyz="0.010700000000000006 -0.06475000000001183 0.9464469999999993" rpy="0 0 -1.5707963267948966"/>
      <geometry>
        <mesh filename="package://iCub/meshes/simmechanics/sim_icub3_l_foot_rear_prt.stl" scale="0.001 0.001 0.001"/>
      </geometry>
      <material name="yellow">
        <color rgba="1 1 0 1"/>
      </material>
    </visual>
    <collision>
      <origin xyz="0.010700000000000006 -0.06475000000001183 0.9464469999999993" rpy="0 0 -1.5707963267948966"/>
      <geometry>
        <mesh filename="package://iCub/meshes/simmechanics/sim_icub3_l_foot_rear_prt.stl" scale="0.001 0.001 0.001"/>
      </geometry>
    </collision>
  </link>
  <joint name="l_foot_rear_ft_sensor" type="fixed">
    <origin xyz="0.016 0 -0.06579999999999997" rpy="0 0 0"/>
    <parent link="l_ankle_2"/>
    <child link="l_foot_rear"/>
    <dynamics damping="0.1"/>
  </joint>
  <link name="l_sole"/>
  <joint name="l_sole_fixed_joint" type="fixed">
    <origin xyz="0.05963 0 0" rpy="0 0 0"/>
    <parent link="l_foot_rear"/>
    <child link="l_sole"/>
    <dynamics damping="0.1"/>
  </joint>
  <link name="l_foot_front">
    <inertial>
      <origin xyz="7.700000000000762e-05 -3.990000000000937e-05 0.004256999999999955" rpy="0 0 -1.5707963267948966"/>
      <mass value="0.185074"/>
      <inertia ixx="0.000335966" ixy="3.66787e-07" ixz="2.80714e-07" iyy="0.000264747" iyz="3.61549e-05" izz="0.000390582"/>
    </inertial>
    <visual>
      <origin xyz="-0.10854999999999998 -0.06475000000001183 0.9464469999999993" rpy="0 0 -1.5707963267948966"/>
      <geometry>
        <mesh filename="package://iCub/meshes/simmechanics/sim_icub3_l_foot_front_prt.stl" scale="0.001 0.001 0.001"/>
      </geometry>
      <material name="pink">
        <color rgba="1 0 1 1"/>
      </material>
    </visual>
    <collision>
      <origin xyz="-0.10854999999999998 -0.06475000000001183 0.9464469999999993" rpy="0 0 -1.5707963267948966"/>
      <geometry>
        <mesh filename="package://iCub/meshes/simmechanics/sim_icub3_l_foot_front_prt.stl" scale="0.001 0.001 0.001"/>
      </geometry>
    </collision>
  </link>
  <joint name="l_foot_front_ft_sensor" type="fixed">
    <origin xyz="0.13524999999999998 0 -0.06579999999999997" rpy="0 0 0"/>
    <parent link="l_ankle_2"/>
    <child link="l_foot_front"/>
    <dynamics damping="0.1"/>
  </joint>
  <link name="base_link"/>
  <joint name="base_link_fixed_joint" type="fixed">
  <origin xyz="0 0 0" rpy="0 -0 0"/>
  <axis xyz="0 0 0"/>
  <parent link="root_link"/>
  <child link="base_link"/>
</joint>
  <gazebo reference="r_arm_ft_sensor">
<preserveFixedJoint>true</preserveFixedJoint>
<!-- For compatibility with SDFormat < 4.4 -->
<disableFixedJointLumping>true</disableFixedJointLumping>
</gazebo>
  <gazebo reference="l_arm_ft_sensor">
<preserveFixedJoint>true</preserveFixedJoint>
<!-- For compatibility with SDFormat < 4.4 -->
<disableFixedJointLumping>true</disableFixedJointLumping>
</gazebo>
  <gazebo>
<plugin name="controlboard_torso" filename="libgazebo_yarp_controlboard.so">
  <yarpConfigurationFile>model://iCub/conf_icub3/gazebo_icub_torso.ini</yarpConfigurationFile>
</plugin>
</gazebo>
  <gazebo reference="torso_pitch">
    <implicitSpringDamper>1</implicitSpringDamper>
</gazebo>
  <gazebo reference="torso_roll">
    <implicitSpringDamper>1</implicitSpringDamper>
</gazebo>
  <gazebo reference="torso_yaw">
    <implicitSpringDamper>1</implicitSpringDamper>
</gazebo>
  <gazebo reference="r_shoulder_pitch">
    <implicitSpringDamper>1</implicitSpringDamper>
</gazebo>
  <gazebo reference="r_shoulder_roll">
    <implicitSpringDamper>1</implicitSpringDamper>
</gazebo>
  <gazebo reference="r_shoulder_yaw">
    <implicitSpringDamper>1</implicitSpringDamper>
</gazebo>
  <gazebo reference="l_shoulder_pitch">
    <implicitSpringDamper>1</implicitSpringDamper>
</gazebo>
  <gazebo reference="l_shoulder_roll">
    <implicitSpringDamper>1</implicitSpringDamper>
</gazebo>
  <gazebo reference="l_shoulder_yaw">
    <implicitSpringDamper>1</implicitSpringDamper>
</gazebo>
  <gazebo reference="l_leg_ft_sensor">
<preserveFixedJoint>true</preserveFixedJoint>
<!-- For compatibility with SDFormat < 4.4 -->
<disableFixedJointLumping>true</disableFixedJointLumping>
</gazebo>
  <gazebo reference="l_foot_front_ft_sensor">
<preserveFixedJoint>true</preserveFixedJoint>
<!-- For compatibility with SDFormat < 4.4 -->
<disableFixedJointLumping>true</disableFixedJointLumping>
</gazebo>
  <gazebo reference="l_foot_rear_ft_sensor">
<preserveFixedJoint>true</preserveFixedJoint>
<!-- For compatibility with SDFormat < 4.4 -->
<disableFixedJointLumping>true</disableFixedJointLumping>
</gazebo>
  <gazebo reference="l_foot_front">
  <collision> <surface> <bounce>
    <restitution_coefficient>0</restitution_coefficient>
    <threshold>100000</threshold>
  </bounce> </surface> </collision>
  <maxContacts>4</maxContacts>
  <kp>18000000</kp>
  <kd>100</kd>
  <maxVel>100</maxVel>
  <minDepth>0.0001</minDepth>
  <mu1>1</mu1>
  <mu2>1</mu2>
  <fdir1>0 0 0</fdir1>
</gazebo>
  <gazebo reference="l_foot_rear">
  <collision> <surface> <bounce>
    <restitution_coefficient>0</restitution_coefficient>
    <threshold>100000</threshold>
  </bounce> </surface> </collision>
  <maxContacts>4</maxContacts>
  <kp>18000000</kp>
  <kd>100</kd>
  <maxVel>100</maxVel>
  <minDepth>0.0001</minDepth>
  <mu1>1</mu1>
  <mu2>1</mu2>
  <fdir1>0 0 0</fdir1>
</gazebo>
  <gazebo>
<plugin name="controlboard_left_leg" filename="libgazebo_yarp_controlboard.so">
<yarpConfigurationFile>model://iCub/conf_icub3/gazebo_icub_left_leg.ini</yarpConfigurationFile>
</plugin>
</gazebo>
  <gazebo reference="l_hip_pitch">
    <implicitSpringDamper>1</implicitSpringDamper>
</gazebo>
  <gazebo reference="l_hip_roll">
    <implicitSpringDamper>1</implicitSpringDamper>
</gazebo>
  <gazebo reference="l_hip_yaw">
    <implicitSpringDamper>1</implicitSpringDamper>
</gazebo>
  <gazebo reference="l_knee">
    <implicitSpringDamper>1</implicitSpringDamper>
</gazebo>
  <gazebo reference="l_ankle_pitch">
    <implicitSpringDamper>1</implicitSpringDamper>
</gazebo>
  <gazebo reference="l_ankle_roll">
    <implicitSpringDamper>1</implicitSpringDamper>
</gazebo>
  <gazebo reference="r_leg_ft_sensor">
<preserveFixedJoint>true</preserveFixedJoint>
<!-- For compatibility with SDFormat < 4.4 -->
<disableFixedJointLumping>true</disableFixedJointLumping>
</gazebo>
  <gazebo reference="r_foot_front_ft_sensor">
<preserveFixedJoint>true</preserveFixedJoint>
<!-- For compatibility with SDFormat < 4.4 -->
<disableFixedJointLumping>true</disableFixedJointLumping>
</gazebo>
  <gazebo reference="r_foot_rear_ft_sensor">
<preserveFixedJoint>true</preserveFixedJoint>
<!-- For compatibility with SDFormat < 4.4 -->
<disableFixedJointLumping>true</disableFixedJointLumping>
</gazebo>
  <gazebo reference="r_foot_front">
  <collision> <surface> <bounce>
    <restitution_coefficient>0</restitution_coefficient>
    <threshold>100000</threshold>
  </bounce> </surface> </collision>
  <maxContacts>4</maxContacts>
  <kp>18000000</kp>
  <kd>100</kd>
  <maxVel>100</maxVel>
  <minDepth>0.0001</minDepth>
  <mu1>1</mu1>
  <mu2>1</mu2>
  <fdir1>0 0 0</fdir1>
</gazebo>
  <gazebo reference="r_foot_rear">
  <collision> <surface> <bounce>
    <restitution_coefficient>0</restitution_coefficient>
    <threshold>100000</threshold>
  </bounce> </surface> </collision>
  <maxContacts>4</maxContacts>
  <kp>18000000</kp>
  <kd>100</kd>
  <maxVel>100</maxVel>
  <minDepth>0.0001</minDepth>
  <mu1>1</mu1>
  <mu2>1</mu2>
  <fdir1>0 0 0</fdir1>
</gazebo>
  <gazebo>
<plugin name="controlboard_right_leg" filename="libgazebo_yarp_controlboard.so">
<yarpConfigurationFile>model://iCub/conf_icub3/gazebo_icub_right_leg.ini</yarpConfigurationFile>
</plugin>
</gazebo>
  <gazebo reference="r_hip_pitch">
    <implicitSpringDamper>1</implicitSpringDamper>
</gazebo>
  <gazebo reference="r_hip_roll">
    <implicitSpringDamper>1</implicitSpringDamper>
</gazebo>
  <gazebo reference="r_hip_yaw">
    <implicitSpringDamper>1</implicitSpringDamper>
</gazebo>
  <gazebo reference="r_knee">
    <implicitSpringDamper>1</implicitSpringDamper>
</gazebo>
  <gazebo reference="r_ankle_pitch">
    <implicitSpringDamper>1</implicitSpringDamper>
</gazebo>
  <gazebo reference="r_ankle_roll">
    <implicitSpringDamper>1</implicitSpringDamper>
</gazebo>
  <gazebo>
<plugin name="controlboard_head_without_eyes" filename="libgazebo_yarp_controlboard.so">
<yarpConfigurationFile>model://iCub/conf_icub3/gazebo_icub_head_without_eyes_V2_7.ini</yarpConfigurationFile>
</plugin>
</gazebo>
  <gazebo reference="neck_pitch">
    <implicitSpringDamper>1</implicitSpringDamper>
</gazebo>
  <gazebo reference="neck_roll">
    <implicitSpringDamper>1</implicitSpringDamper>
</gazebo>
  <gazebo reference="neck_yaw">
    <implicitSpringDamper>1</implicitSpringDamper>
</gazebo>
  <gazebo>
<plugin name="controlboard_left_arm_no_hand" filename="libgazebo_yarp_controlboard.so">
<yarpConfigurationFile>model://iCub/conf_icub3/gazebo_icub_left_arm_no_hand_for_no_hand_model.ini</yarpConfigurationFile>
<initialConfiguration>-0.52 0.52 0 0.785 0 0 0.0</initialConfiguration>
</plugin>
</gazebo>
  <gazebo reference="l_shoulder_pitch">
  <implicitSpringDamper>1</implicitSpringDamper>
</gazebo>
  <gazebo reference="l_shoulder_roll">
  <implicitSpringDamper>1</implicitSpringDamper>
</gazebo>
  <gazebo reference="l_shoulder_yaw">
  <implicitSpringDamper>1</implicitSpringDamper>
</gazebo>
  <gazebo reference="l_elbow">
  <implicitSpringDamper>1</implicitSpringDamper>
</gazebo>
  <gazebo reference="l_wrist_prosup">
  <implicitSpringDamper>1</implicitSpringDamper>
</gazebo>
  <gazebo reference="l_wrist_pitch">
  <implicitSpringDamper>1</implicitSpringDamper>
</gazebo>
  <gazebo reference="l_wrist_yaw">
  <implicitSpringDamper>1</implicitSpringDamper>
</gazebo>
  <gazebo>
<plugin name="controlboard_right_arm_no_hand" filename="libgazebo_yarp_controlboard.so">
<yarpConfigurationFile>model://iCub/conf_icub3/gazebo_icub_right_arm_no_hand_for_no_hand_model.ini</yarpConfigurationFile>
<initialConfiguration>-0.52 0.52 0 0.785 0 0 0.0</initialConfiguration>
</plugin>
</gazebo>
  <gazebo reference="r_shoulder_pitch">
  <implicitSpringDamper>1</implicitSpringDamper>
</gazebo>
  <gazebo reference="r_shoulder_roll">
  <implicitSpringDamper>1</implicitSpringDamper>
</gazebo>
  <gazebo reference="r_shoulder_yaw">
  <implicitSpringDamper>1</implicitSpringDamper>
</gazebo>
  <gazebo reference="r_elbow">
  <implicitSpringDamper>1</implicitSpringDamper>
</gazebo>
  <gazebo reference="r_wrist_prosup">
  <implicitSpringDamper>1</implicitSpringDamper>
</gazebo>
  <gazebo reference="r_wrist_pitch">
  <implicitSpringDamper>1</implicitSpringDamper>
</gazebo>
  <gazebo reference="r_wrist_yaw">
  <implicitSpringDamper>1</implicitSpringDamper>
</gazebo>
  <gazebo reference="l_arm_ft_sensor">
    <sensor name="l_arm_ft_sensor" type="force_torque">
      <always_on>1</always_on>
      <update_rate>100</update_rate>
      <force_torque>
        <frame>sensor</frame>
        <measure_direction>child_to_parent</measure_direction>
      </force_torque>
      <pose>-0.004350133156978318 3.632573233602887e-07 -0.05430003872406172 3.141592646862139 -3.10468332187885e-08 -1.5707962571980942</pose>
      <plugin name="left_arm_ft_plugin" filename="libgazebo_yarp_forcetorque.so">
  <yarpConfigurationFile>model://iCub/conf_icub3/FT/gazebo_icub_left_arm_ft.ini</yarpConfigurationFile>
</plugin>
    </sensor>
  </gazebo>
  <sensor name="l_arm_ft_sensor" type="force_torque">
    <parent joint="l_arm_ft_sensor"/>
    <force_torque>
      <frame>sensor</frame>
      <measure_direction>child_to_parent</measure_direction>
    </force_torque>
    <origin rpy="3.141592646862139 -3.10468332187885e-08 -1.5707962571980942" xyz="-0.004350133156978318 3.632573233602887e-07 -0.05430003872406172"/>
  </sensor>
  <gazebo reference="r_arm_ft_sensor">
    <sensor name="r_arm_ft_sensor" type="force_torque">
      <always_on>1</always_on>
      <update_rate>100</update_rate>
      <force_torque>
        <frame>sensor</frame>
        <measure_direction>child_to_parent</measure_direction>
      </force_torque>
      <pose>-0.006849946385389872 2.1904996058697002e-07 -0.05429998157789099 3.141592644717707 4.094299285979593e-08 1.5707964185756365</pose>
      <plugin name="right_arm_ft_plugin" filename="libgazebo_yarp_forcetorque.so">
  <yarpConfigurationFile>model://iCub/conf_icub3/FT/gazebo_icub_right_arm_ft.ini</yarpConfigurationFile>
</plugin>
    </sensor>
  </gazebo>
  <sensor name="r_arm_ft_sensor" type="force_torque">
    <parent joint="r_arm_ft_sensor"/>
    <force_torque>
      <frame>sensor</frame>
      <measure_direction>child_to_parent</measure_direction>
    </force_torque>
    <origin rpy="3.141592644717707 4.094299285979593e-08 1.5707964185756365" xyz="-0.006849946385389872 2.1904996058697002e-07 -0.05429998157789099"/>
  </sensor>
  <gazebo reference="l_foot_front_ft_sensor">
    <sensor name="l_foot_front_ft_sensor" type="force_torque">
      <always_on>1</always_on>
      <update_rate>100</update_rate>
      <force_torque>
        <frame>sensor</frame>
        <measure_direction>parent_to_child</measure_direction>
      </force_torque>
      <pose>0.0 0.0 0.022299999999999986 0.0 -0.0 -2.094395210586932</pose>
      <plugin name="left_foot_front_ft_plugin" filename="libgazebo_yarp_forcetorque.so">
  <yarpConfigurationFile>model://iCub/conf_icub3/FT/gazebo_icub_left_foot_front_ft.ini</yarpConfigurationFile>
</plugin>
    </sensor>
  </gazebo>
  <sensor name="l_foot_front_ft_sensor" type="force_torque">
    <parent joint="l_foot_front_ft_sensor"/>
    <force_torque>
      <frame>sensor</frame>
      <measure_direction>parent_to_child</measure_direction>
    </force_torque>
    <origin rpy="0.0 -0.0 -2.094395210586932" xyz="0.0 0.0 0.022299999999999986"/>
  </sensor>
  <gazebo reference="l_foot_rear_ft_sensor">
    <sensor name="l_foot_rear_ft_sensor" type="force_torque">
      <always_on>1</always_on>
      <update_rate>100</update_rate>
      <force_torque>
        <frame>sensor</frame>
        <measure_direction>parent_to_child</measure_direction>
      </force_torque>
      <pose>0.0 0.0 0.022299999999999986 0.0 -0.0 -2.094395210586932</pose>
      <plugin name="left_foot_rear_ft_plugin" filename="libgazebo_yarp_forcetorque.so">
  <yarpConfigurationFile>model://iCub/conf_icub3/FT/gazebo_icub_left_foot_rear_ft.ini</yarpConfigurationFile>
</plugin>
    </sensor>
  </gazebo>
  <sensor name="l_foot_rear_ft_sensor" type="force_torque">
    <parent joint="l_foot_rear_ft_sensor"/>
    <force_torque>
      <frame>sensor</frame>
      <measure_direction>parent_to_child</measure_direction>
    </force_torque>
    <origin rpy="0.0 -0.0 -2.094395210586932" xyz="0.0 0.0 0.022299999999999986"/>
  </sensor>
  <gazebo reference="r_foot_front_ft_sensor">
    <sensor name="r_foot_front_ft_sensor" type="force_torque">
      <always_on>1</always_on>
      <update_rate>100</update_rate>
      <force_torque>
        <frame>sensor</frame>
        <measure_direction>parent_to_child</measure_direction>
      </force_torque>
      <pose>0.0 0.0 0.022299999999999986 0.0 -0.0 -2.094395210586932</pose>
      <plugin name="right_foot_front_ft_plugin" filename="libgazebo_yarp_forcetorque.so">
  <yarpConfigurationFile>model://iCub/conf_icub3/FT/gazebo_icub_right_foot_front_ft.ini</yarpConfigurationFile>
</plugin>
    </sensor>
  </gazebo>
  <sensor name="r_foot_front_ft_sensor" type="force_torque">
    <parent joint="r_foot_front_ft_sensor"/>
    <force_torque>
      <frame>sensor</frame>
      <measure_direction>parent_to_child</measure_direction>
    </force_torque>
    <origin rpy="0.0 -0.0 -2.094395210586932" xyz="0.0 0.0 0.022299999999999986"/>
  </sensor>
  <gazebo reference="r_foot_rear_ft_sensor">
    <sensor name="r_foot_rear_ft_sensor" type="force_torque">
      <always_on>1</always_on>
      <update_rate>100</update_rate>
      <force_torque>
        <frame>sensor</frame>
        <measure_direction>parent_to_child</measure_direction>
      </force_torque>
      <pose>0.0 0.0 0.022299999999999986 0.0 -0.0 -2.094395210586932</pose>
      <plugin name="right_foot_rear_ft_plugin" filename="libgazebo_yarp_forcetorque.so">
  <yarpConfigurationFile>model://iCub/conf_icub3/FT/gazebo_icub_right_foot_rear_ft.ini</yarpConfigurationFile>
</plugin>
    </sensor>
  </gazebo>
  <sensor name="r_foot_rear_ft_sensor" type="force_torque">
    <parent joint="r_foot_rear_ft_sensor"/>
    <force_torque>
      <frame>sensor</frame>
      <measure_direction>parent_to_child</measure_direction>
    </force_torque>
    <origin rpy="0.0 -0.0 -2.094395210586932" xyz="0.0 0.0 0.022299999999999986"/>
  </sensor>
  <gazebo reference="head">
    <sensor name="head_imu_acc_1x1" type="imu">
      <always_on>1</always_on>
      <update_rate>100</update_rate>
      <pose>0.0034999999997785457 0.0054999999863750895 0.1013340000004441 -3.141592653589793 -4.20000162559822e-15 -1.570796326794897</pose>
      <plugin name="iCub_yarp_gazebo_plugin_IMU" filename="libgazebo_yarp_imu.so">
    <yarpConfigurationFile>model://iCub/conf_icub3/gazebo_icub_inertial.ini</yarpConfigurationFile>
</plugin>
    </sensor>
  </gazebo>
  <sensor name="head_imu_acc_1x1" type="accelerometer">
    <parent link="head"/>
    <origin rpy="-3.141592653589793 -4.20000162559822e-15 -1.570796326794897" xyz="0.0034999999997785457 0.0054999999863750895 0.1013340000004441"/>
  </sensor>
  <gazebo reference="chest">
    <sensor name="realsense_chest_depth" type="depth">
      <always_on>1</always_on>
      <update_rate>30</update_rate>
      <pose>0.0894115 0.0175 0.09929950000000001 -1.5707963267948968 -0.0 -1.5707963267948968</pose>
      <camera name="intel_realsense_depth_camera">
  <pose>0 0 0 -1.57079 -1.57079 3.14159</pose>
  <horizontal_fov>1.57079</horizontal_fov>
  <distortion>
    <k1>0</k1>
    <k2>0</k2>
    <k3>0</k3>
    <p1>0</p1>
    <p2>0</p2>
    <center>319.5 239.5</center>
  </distortion>
  <image>
    <width>640</width>
    <height>480</height>
    <format>R8G8B8</format>
  </image>
  <clip>
    <near>0.175</near>
    <far>3000</far>
  </clip>
</camera>
      <visualize>false</visualize>
      <plugin name="iCub_yarp_gazebo_plugin_depthCamera" filename="libgazebo_yarp_depthCamera.so">
    <yarpConfigurationFile>model://iCub/conf_icub3/gazebo_icub_depth_camera.ini</yarpConfigurationFile>
</plugin>
    </sensor>
  </gazebo>
  <sensor name="realsense_chest_depth" type="depth">
    <parent link="chest"/>
    <origin rpy="-1.5707963267948968 -0.0 -1.5707963267948968" xyz="0.0894115 0.0175 0.09929950000000001"/>
  </sensor>
  <gazebo reference="chest">
    <sensor name="realsense_chest_rgb" type="camera">
      <always_on>1</always_on>
      <update_rate>30</update_rate>
      <pose>0.0894115 -0.0115 0.09929950000000001 -1.5707963267948968 -0.0 -1.5707963267948968</pose>
      <camera name="intel_realsense_rgb_camera">
  <pose>0 0 0 -1.57079 -1.57079 3.14159</pose>
  <horizontal_fov>1.2217</horizontal_fov>
  <distortion>
    <k1>0</k1>
    <k2>0</k2>
    <k3>0</k3>
    <p1>0</p1>
    <p2>0</p2>
    <center>319.5 239.5</center>
  </distortion>
  <image>
    <width>640</width>
    <height>480</height>
    <format>R8G8B8</format>
  </image>
  <clip>
    <near>0.02</near>
    <far>3000</far>
  </clip>
</camera>
      <visualize>false</visualize>
      <plugin name="iCub_yarp_gazebo_plugin_camera" filename="libgazebo_yarp_camera.so">
    <yarpConfigurationFile>model://iCub/conf_icub3/gazebo_icub_rgb_camera.ini</yarpConfigurationFile>
</plugin>
    </sensor>
  </gazebo>
  <sensor name="realsense_chest_rgb" type="camera">
    <parent link="chest"/>
    <origin rpy="-1.5707963267948968 -0.0 -1.5707963267948968" xyz="0.0894115 -0.0115 0.09929950000000001"/>
  </sensor>
  <gazebo reference="chest">
    <sensor name="chest_imu_acc_1x1" type="imu">
      <always_on>1</always_on>
      <update_rate>100</update_rate>
      <pose>0.0894115 0.0175 0.09929950000000001 -1.5707963267948968 -0.0 -1.5707963267948968</pose>
      <plugin name="iCub_yarp_gazebo_plugin_IMU" filename="libgazebo_yarp_imu.so">
    <yarpConfigurationFile>model://iCub/conf_icub3/gazebo_icub_chest_inertial.ini</yarpConfigurationFile>
</plugin>
    </sensor>
  </gazebo>
  <sensor name="chest_imu_acc_1x1" type="accelerometer">
    <parent link="chest"/>
    <origin rpy="-1.5707963267948968 -0.0 -1.5707963267948968" xyz="0.0894115 0.0175 0.09929950000000001"/>
  </sensor>
  <gazebo>
    <pose>0.0 0.0 0.64 0.0 0.0 0.0</pose>
  </gazebo>
</robot>
